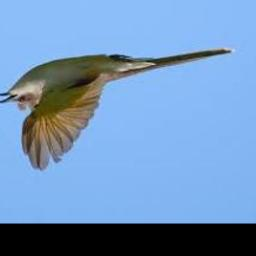Cuckoo: (0, 48, 234, 171)
